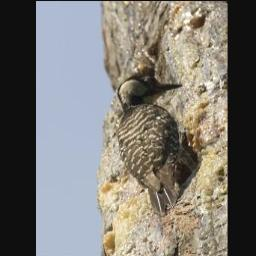Woodpecker: (116, 71, 200, 219)
